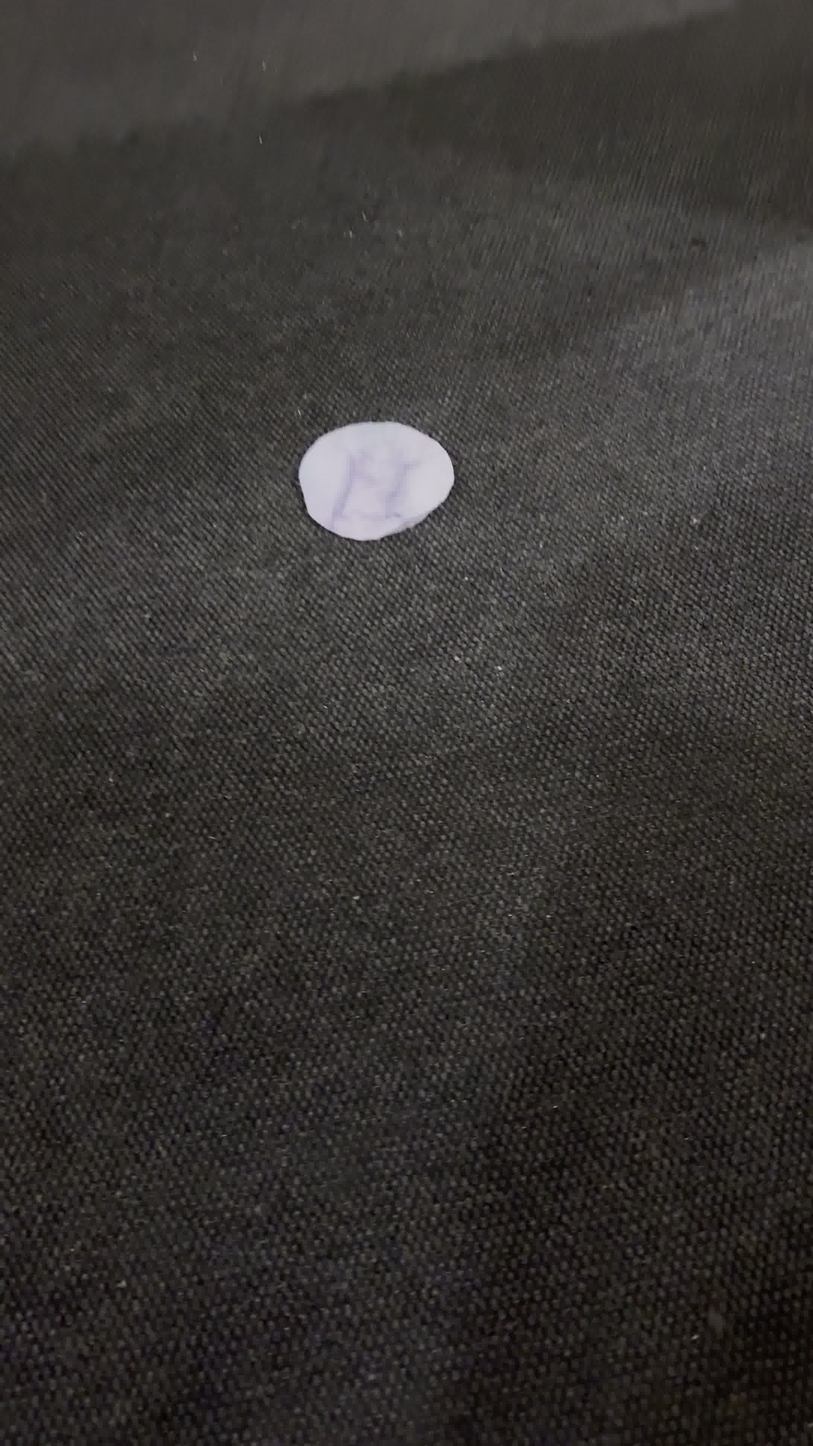Target: (298, 422, 454, 540)
